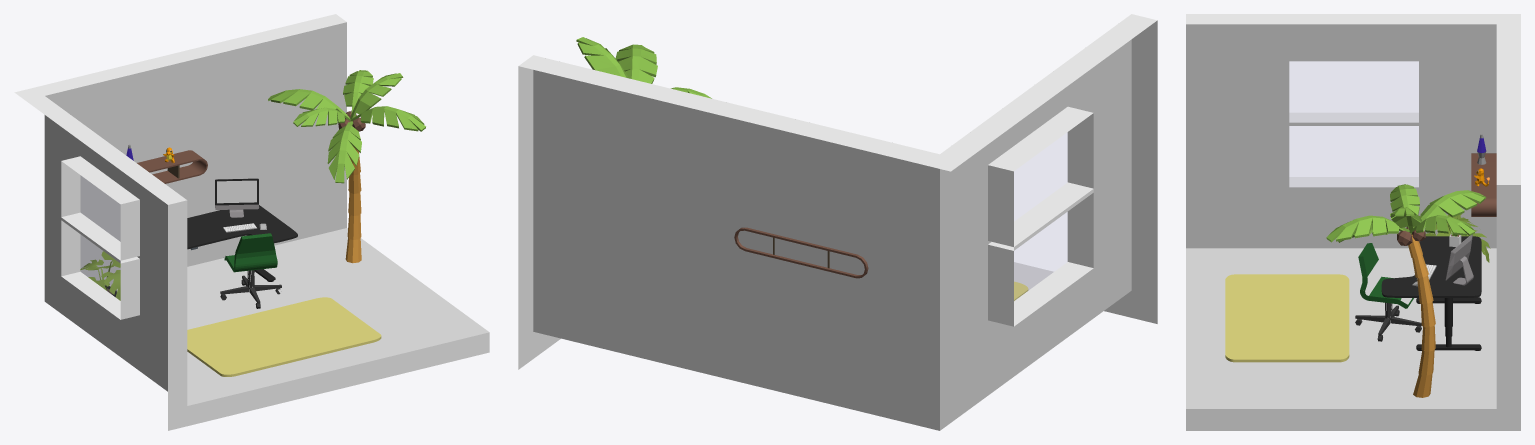
Rendered from scenetwo.glb.
3 renders of one model, left to right at view 1: azimuth 30°, elevation 25°; view 2: azimuth 150°, elevation 25°; view 3: azimuth 270°, elevation 25°, orthographic. The views are drawn at different scales.
Parts seen in each view (by area): view 1: Plane, WawaRug, palm_tree_01, Desk, Chair, SM_Shelf:SM_Shelf1, Screen, Houseplant_7, iMac; view 2: Plane, palm_tree_01, SM_Shelf:SM_Shelf1; view 3: Plane, WawaRug, palm_tree_01, Desk, Chair, SM_Shelf:SM_Shelf1, iMac, Houseplant_7.
Boxes of the visible parts, x1,y1,x2,y2 form: Plane: (14, 14, 489, 430); WawaRug: (187, 297, 381, 376); palm_tree_01: (268, 70, 425, 263); Desk: (187, 205, 297, 281); Chair: (220, 233, 281, 308); SM_Shelf:SM_Shelf1: (137, 150, 207, 183); Screen: (217, 180, 256, 203); Houseplant_7: (80, 251, 120, 300); iMac: (215, 178, 259, 217); Plane: (518, 14, 1157, 430); palm_tree_01: (576, 37, 711, 98); SM_Shelf:SM_Shelf1: (734, 227, 868, 278); Plane: (1186, 14, 1520, 430); WawaRug: (1225, 274, 1349, 362); palm_tree_01: (1326, 184, 1486, 397); Desk: (1381, 236, 1481, 350); Chair: (1355, 243, 1421, 341); SM_Shelf:SM_Shelf1: (1471, 153, 1496, 216); iMac: (1445, 234, 1473, 285); Houseplant_7: (1406, 214, 1490, 262).
Size of the model in its own units: 5.92 by 3.84 by 4.74.
